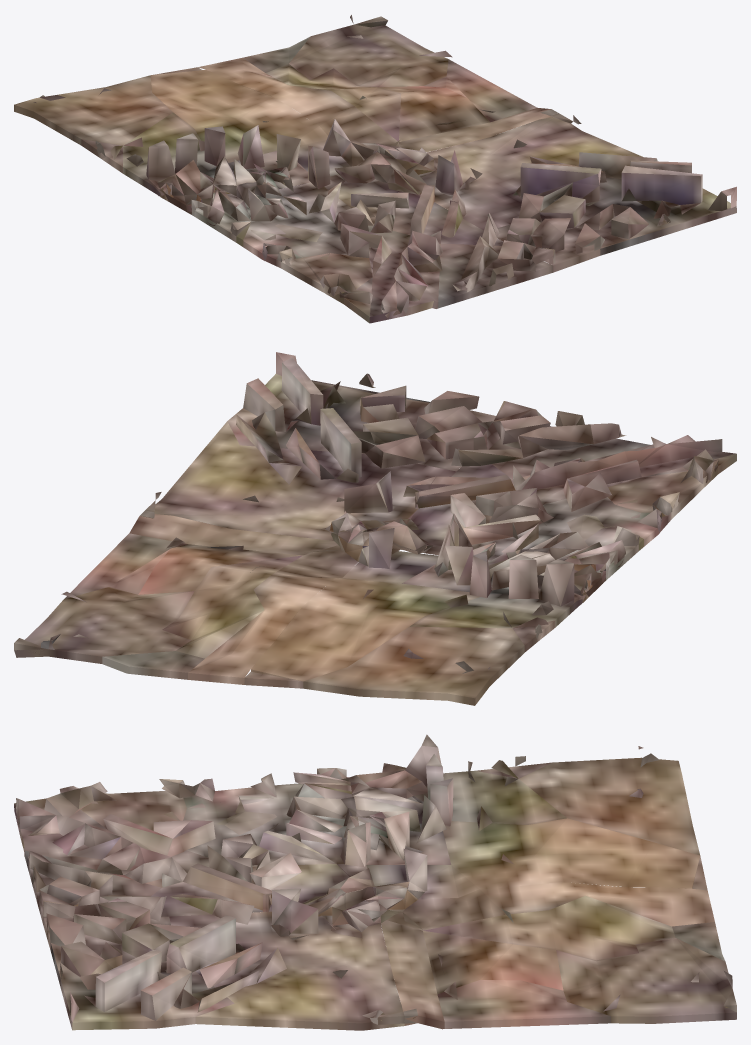
The picture shows the model from 3 angles, top to bottom: view 1: azimuth 30°, elevation 25°; view 2: azimuth 150°, elevation 25°; view 3: azimuth 270°, elevation 25°; orthographic projection. The views are drawn at different scales.
Visible parts, largest first — view 1: Mesh_0; view 2: Mesh_0; view 3: Mesh_0.
Part boxes in pixels (x1,y1,x2,y2): Mesh_0: (14,15,736,323); Mesh_0: (14,352,736,705); Mesh_0: (14,734,736,1030).
Bounding box in the file's own units: 533 × 83.8 × 659.
Materials: 1 (1 with a texture image).
